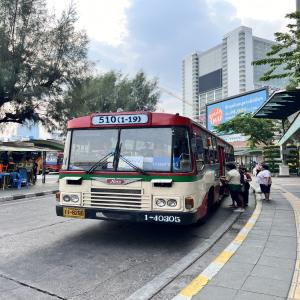BMTA-bus: (55, 111, 242, 227)
Bus Line Number: (95, 115, 142, 125)
Bus Side Number: (140, 213, 183, 225)
Destination Sign: (144, 156, 180, 170)
